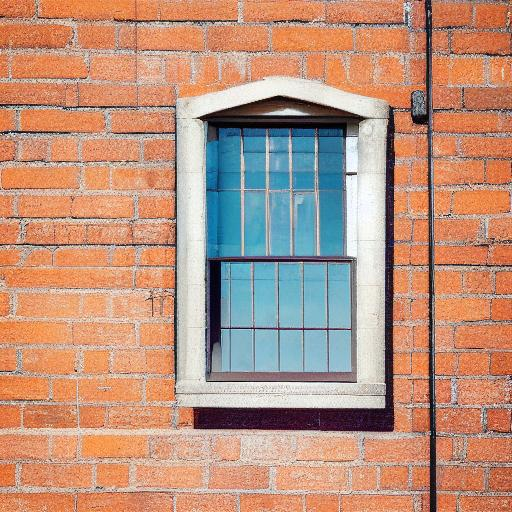Window: (171, 79, 394, 417)
